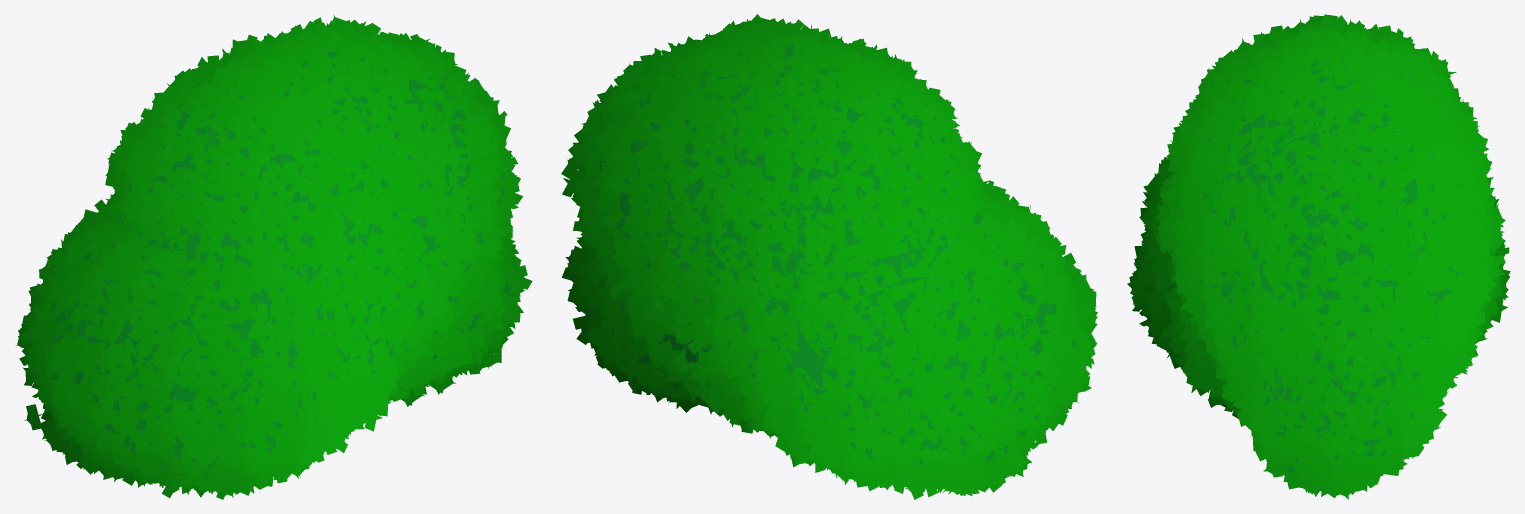
File: TreeFoliage2.fbx
The picture shows the model from 3 angles, left to right: view 1: azimuth 30°, elevation 25°; view 2: azimuth 150°, elevation 25°; view 3: azimuth 270°, elevation 25°; orthographic projection. The views are drawn at different scales.
Visible parts, largest first — view 1: pSphere7; view 2: pSphere7; view 3: pSphere7.
Part boxes in pixels (x1=…): pSphere7: x1=16, y1=14, x2=532, y2=499; pSphere7: x1=561, y1=14, x2=1097, y2=499; pSphere7: x1=1127, y1=14, x2=1510, y2=499.
Bounding box in the file's own units: 556 × 459 × 365.
